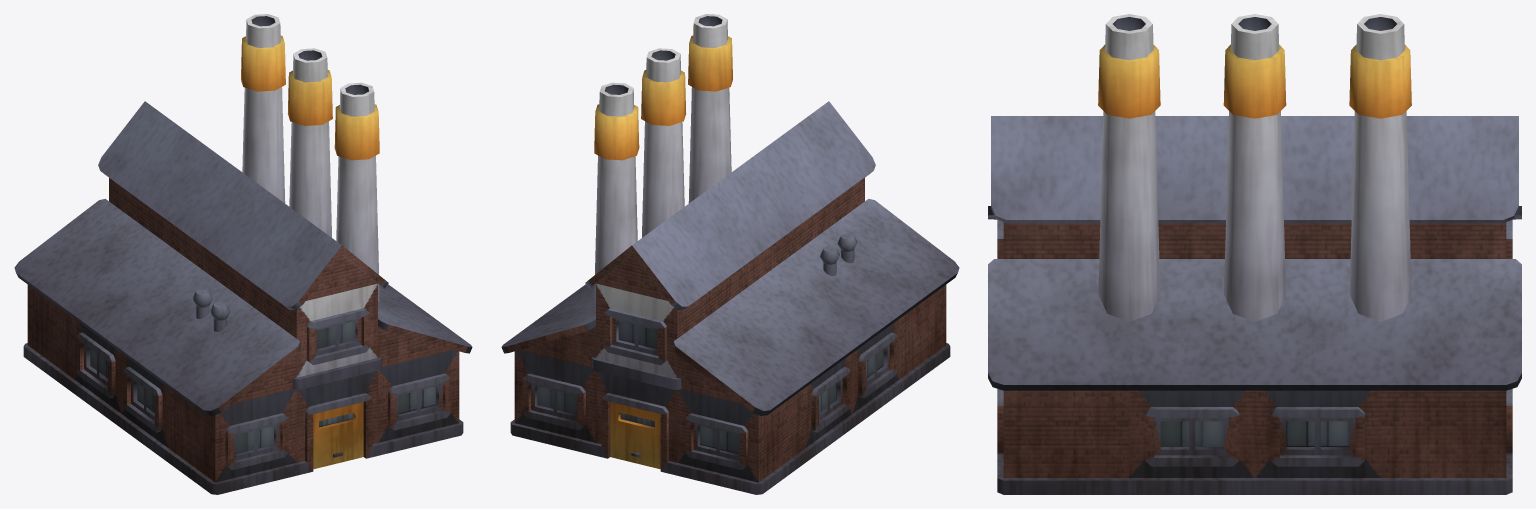
The model's file is building-m-brown.glb.
The picture shows the model from 3 angles, left to right: view 1: azimuth 30°, elevation 25°; view 2: azimuth 150°, elevation 25°; view 3: azimuth 270°, elevation 25°; orthographic projection. The views are drawn at different scales.
Visible parts, largest first — view 1: building-m; view 2: building-m; view 3: building-m.
Boxes of the visible parts, x1=… form: building-m: x1=14, y1=14, x2=472, y2=494; building-m: x1=501, y1=14, x2=959, y2=494; building-m: x1=988, y1=14, x2=1521, y2=494.
Size of the model in its own units: 1.32 by 1.52 by 1.7.
1 material, 1 textured.
